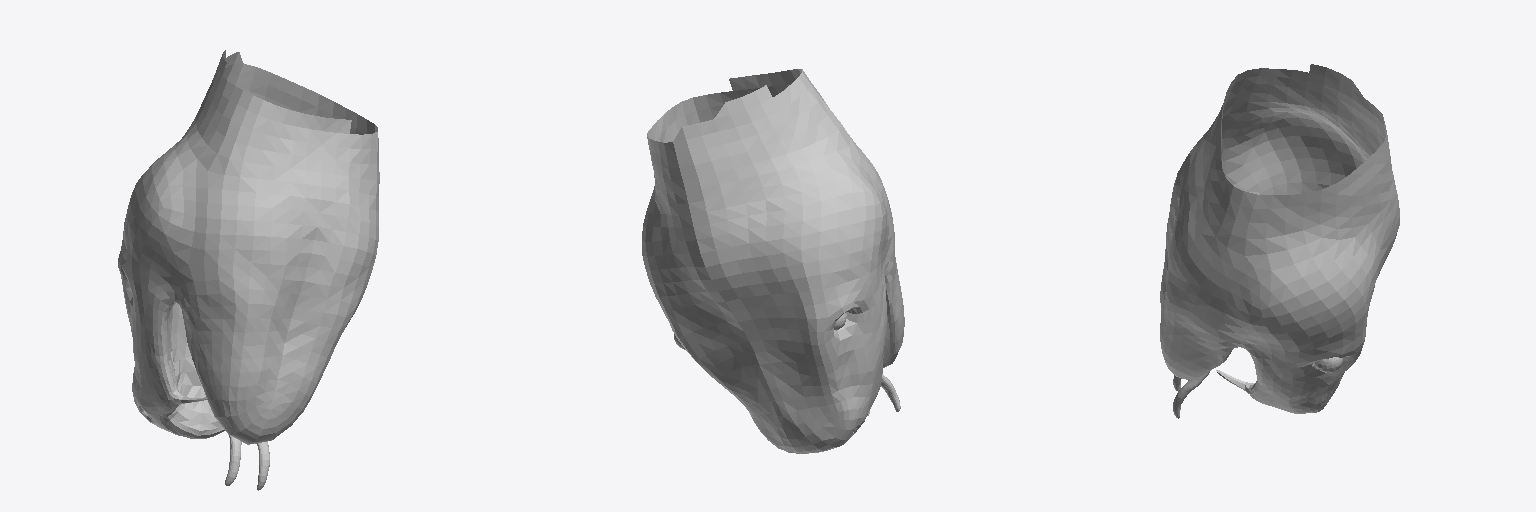
The model's file is head.obj.
3 views of the same model, side by side, from view 1: azimuth 30°, elevation 25°; view 2: azimuth 150°, elevation 25°; view 3: azimuth 270°, elevation 25° (orthographic).
Size of the model in its own units: 9.83 by 15.31 by 8.99.